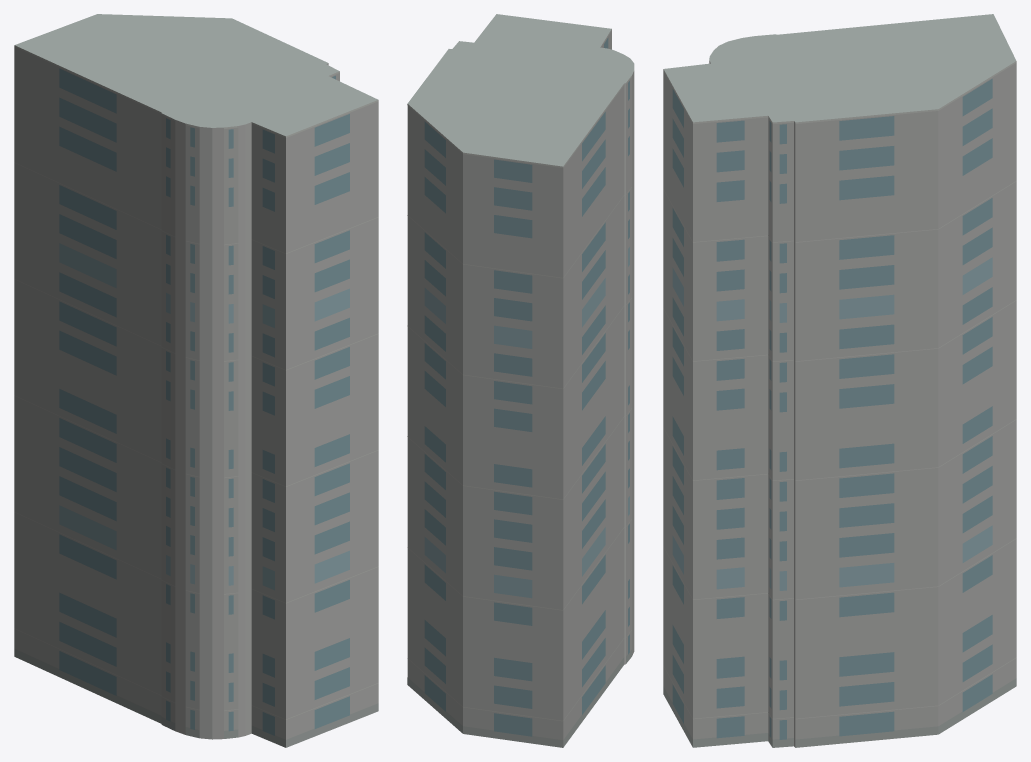
Rendered from survey-upis-32504558.glb.
3 renders of one model, left to right at view 1: azimuth 30°, elevation 25°; view 2: azimuth 150°, elevation 25°; view 3: azimuth 270°, elevation 25°, orthographic. The views are drawn at different scales.
Parts seen in each view (by area): view 1: survey-upis-32504558.tmp; view 2: survey-upis-32504558.tmp; view 3: survey-upis-32504558.tmp.
Boxes of the visible parts, box(x1,y1,x2,y2) form: survey-upis-32504558.tmp: box(14, 14, 378, 747); survey-upis-32504558.tmp: box(407, 14, 634, 747); survey-upis-32504558.tmp: box(663, 14, 1016, 747).
Size of the model in its own units: 33.51 by 90 by 46.07.
